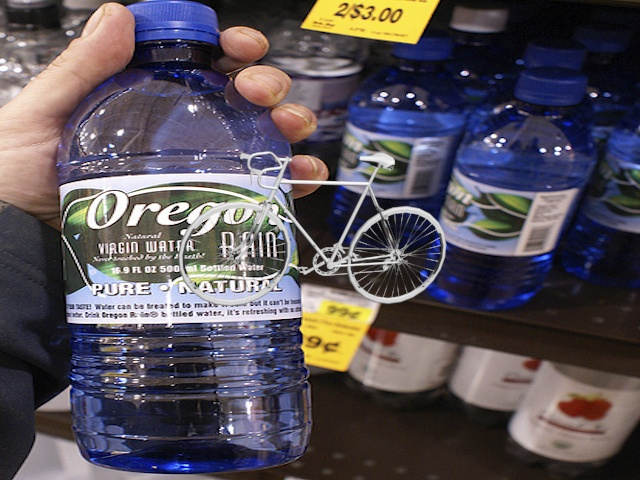bike: (177, 145, 448, 312)
